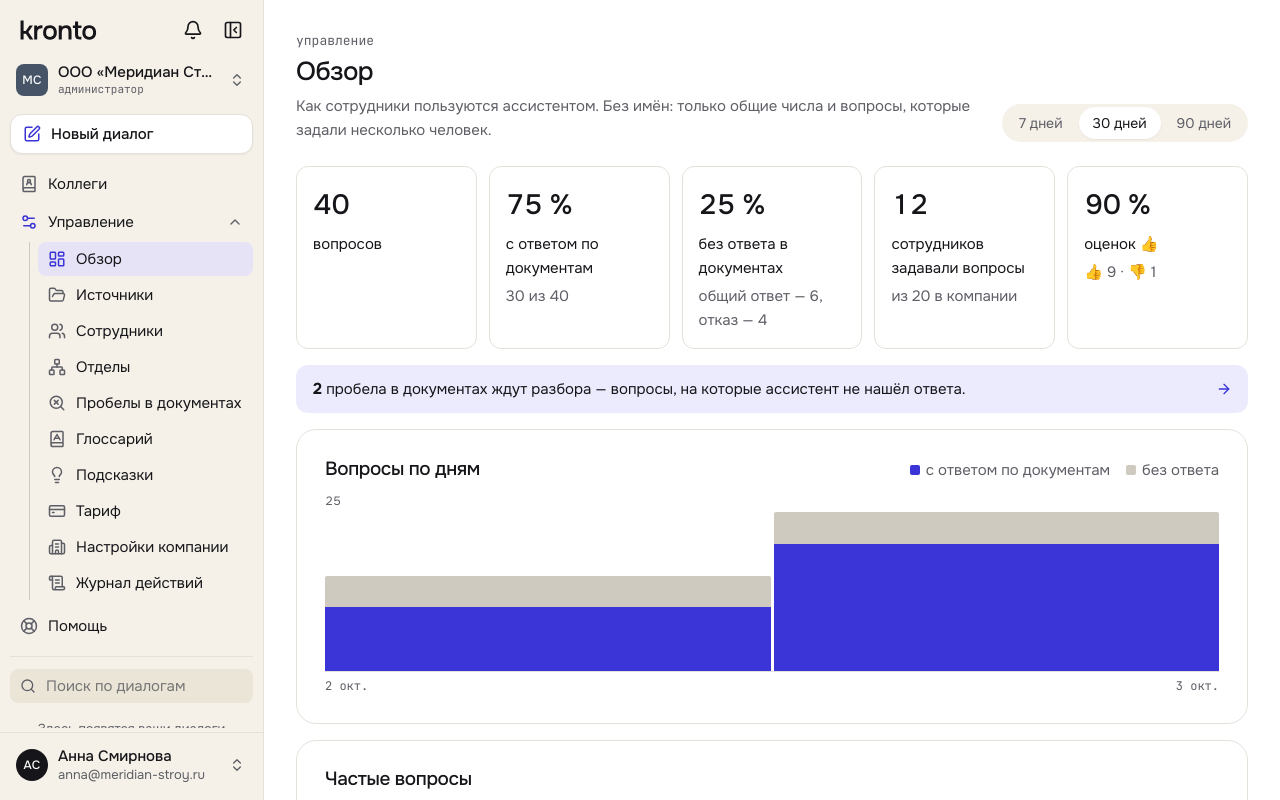
it: обзор админки › показывает обезличенную статистику и меняет период
The width and height of the screenshot is (1280, 800).
Expected: the heading "Обзор" is shown, [296,55,373,88]
Expected: the text "75 %" is shown, [506,187,572,223]
Click the button "7 дней". click: (1041, 123)
box: [1005,107,1076,139]
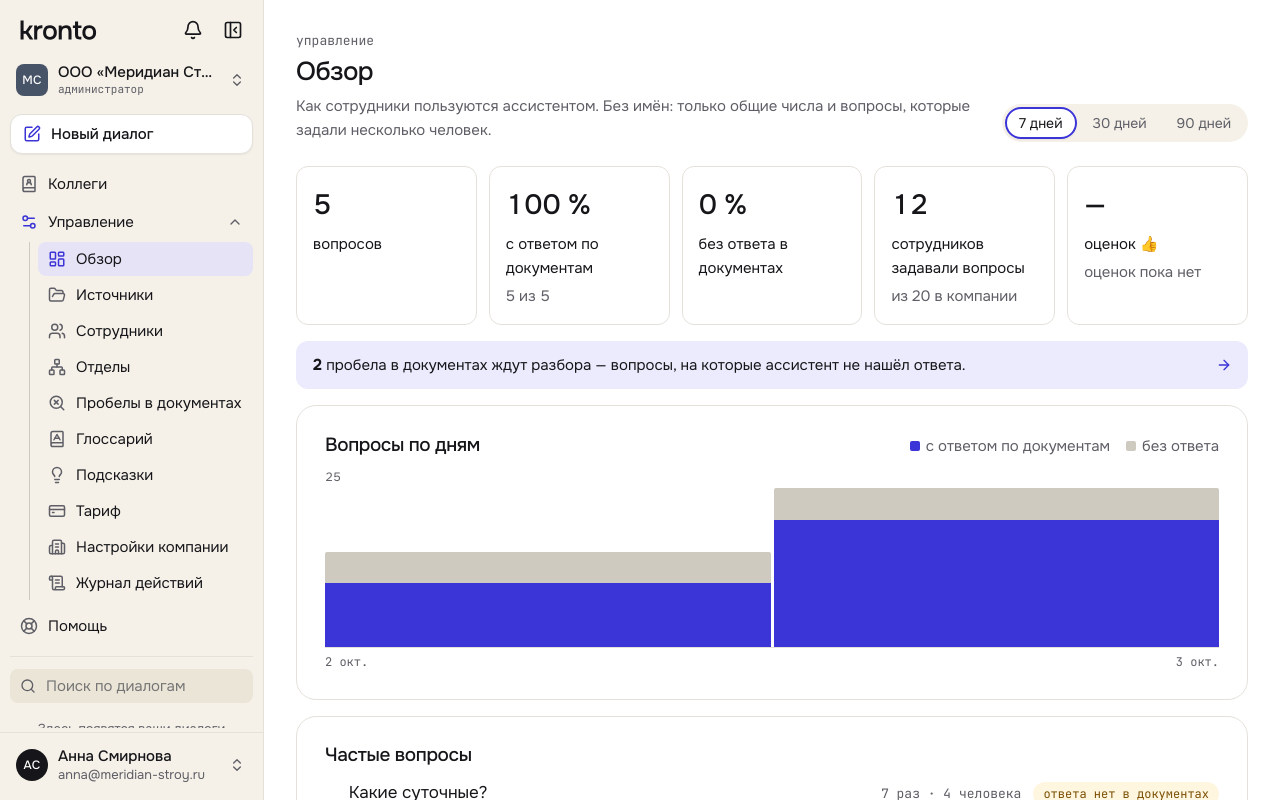
Now the text "100 %" is shown, box [506,187,590,223]
